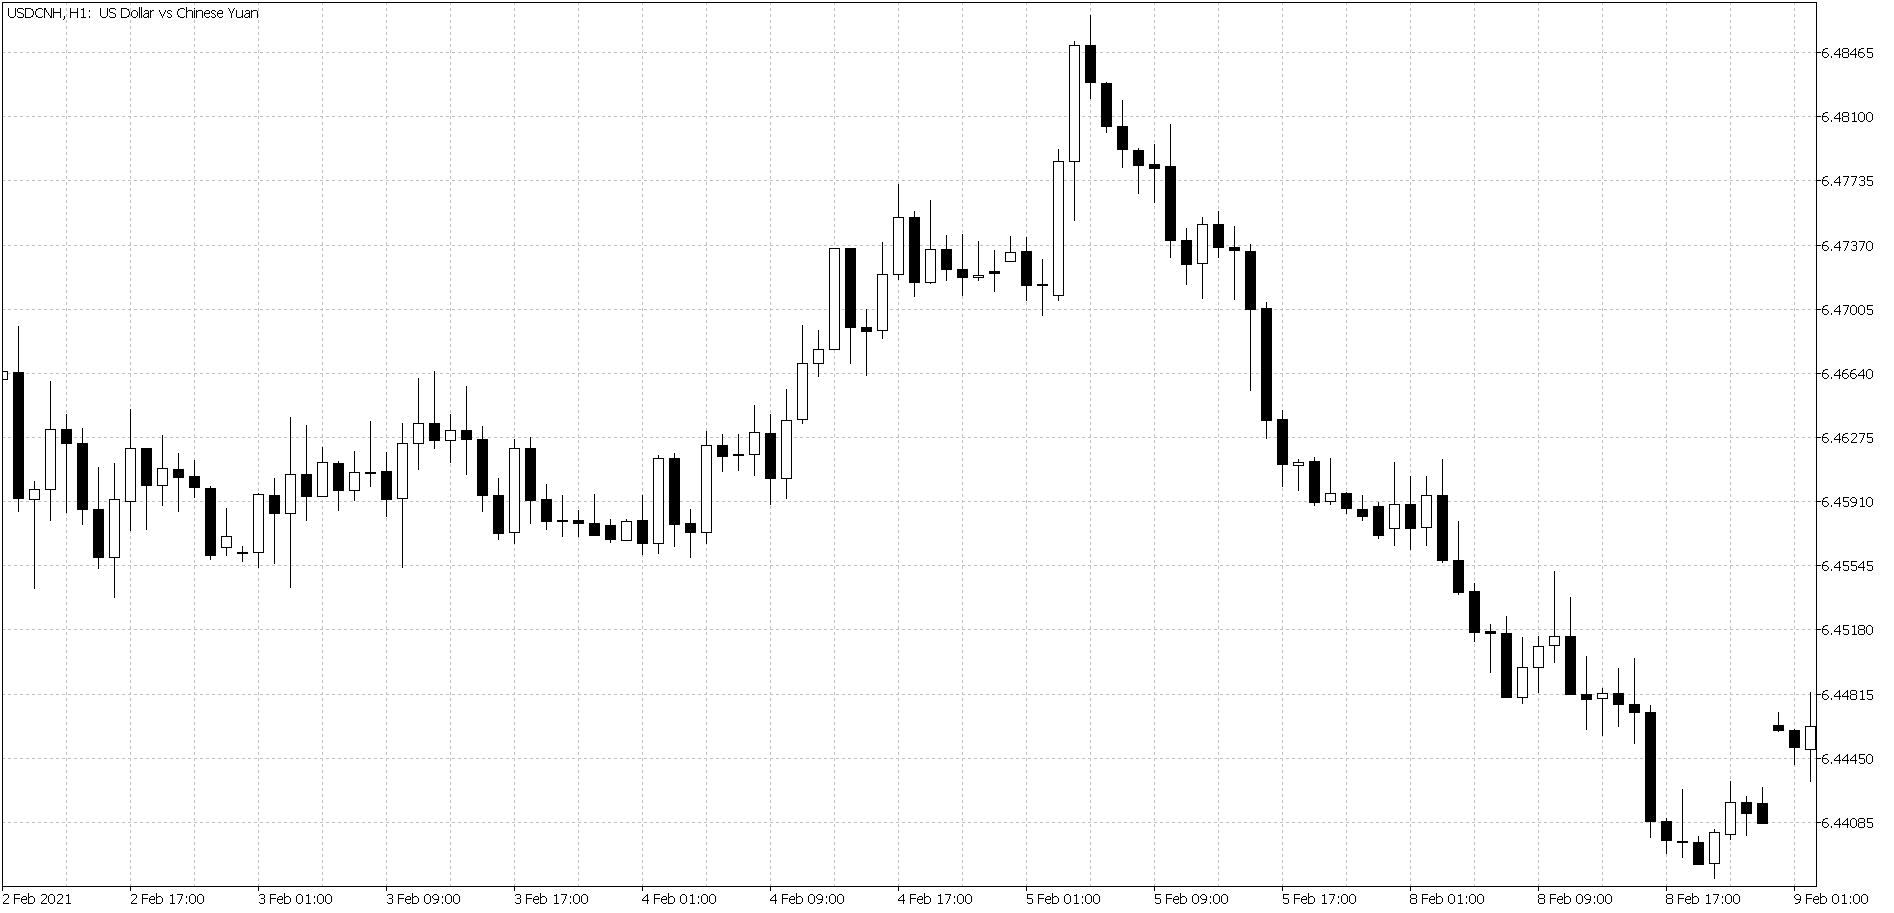3blackcrows: (1083, 22, 1131, 170)
bullishEngulfing: (1690, 818, 1722, 886)
hammer: (27, 478, 43, 597), (1325, 456, 1337, 519)
